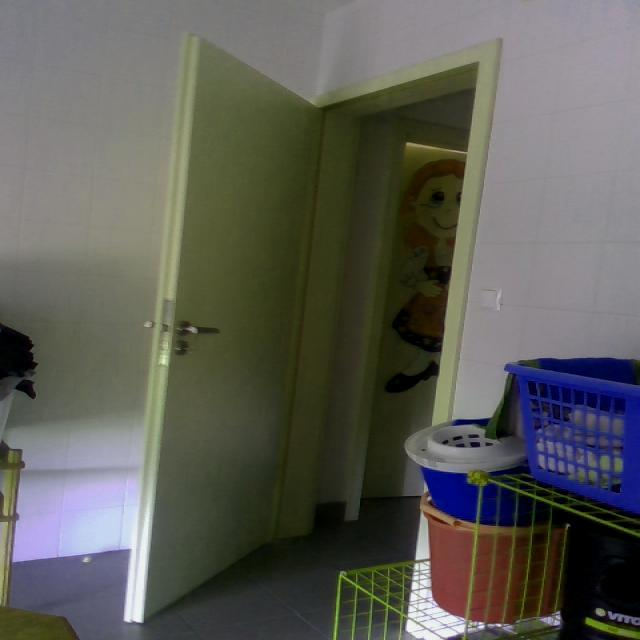door: (125, 19, 516, 640)
